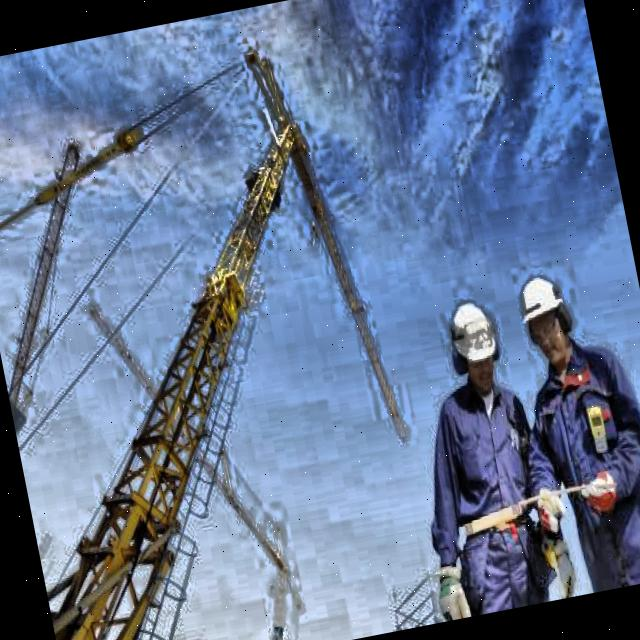helmet: (510, 252, 588, 380), (436, 285, 512, 399)
